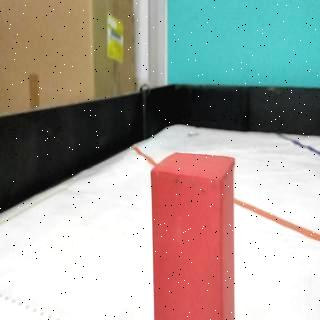redbox: (152, 152, 234, 320)
